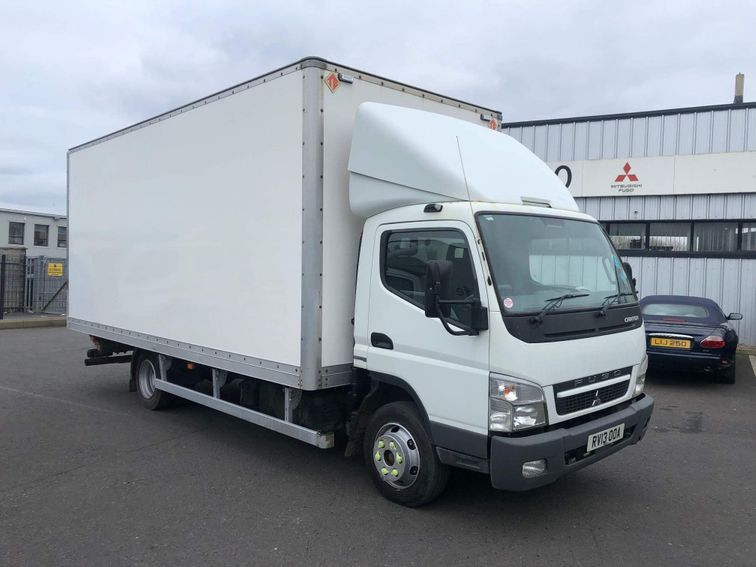Car: (636, 295, 741, 382)
Semi: (63, 55, 655, 505)
